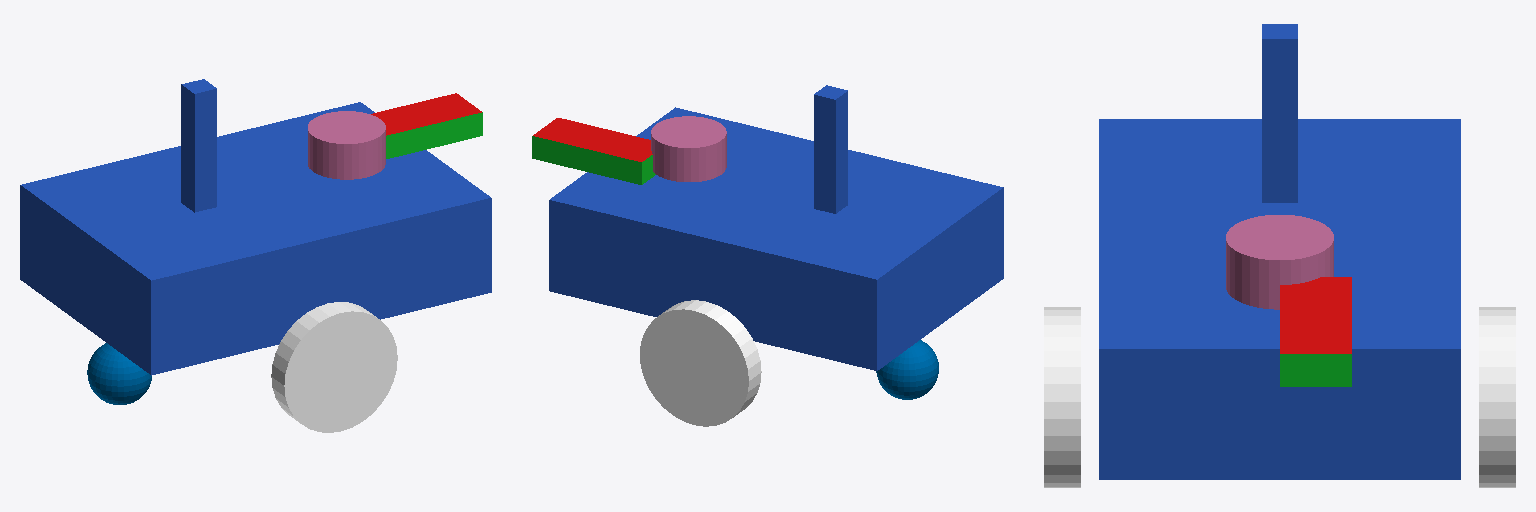
robot.urdf — demo_robot:
<?xml version="1.0"?>
<!--
  Terra M4-08a 测试夹具（由 Terra 编写）：差速小车。覆盖：package:// 路径、STL 网格、Collada 网格（marker.dae，需要 assimp）、
  带贴图的材质、两个 continuous 轮子、一个 revolute 关节、没有惯量的固定连杆（激光雷达、相机、IMU）、相机的光学坐标系。
  base_footprint（地面）→ base_link（轮轴高度 0.05 m）。
-->
<robot name="demo_robot">
  <material name="blue"><color rgba="0.2 0.4 0.8 1"/></material>
  <material name="checker"><color rgba="1 1 1 1"/><texture filename="package://demo_robot/textures/checker.png"/></material>

  <link name="base_footprint"/>
  <joint name="base_joint" type="fixed">
    <parent link="base_footprint"/>
    <child link="base_link"/>
    <origin xyz="0 0 0.05" rpy="0 0 0"/>
  </joint>

  <link name="base_link">
    <inertial>
      <origin xyz="0 0 0.06"/>
      <mass value="2.0"/>
      <inertia ixx="0.0077" ixy="0" ixz="0" iyy="0.016" iyz="0" izz="0.0217"/>
    </inertial>
    <visual>
      <geometry><mesh filename="package://demo_robot/meshes/body.stl"/></geometry>
      <material name="blue"/>
    </visual>
    <visual>
      <origin xyz="0.1 0 0.1" rpy="0 0 0"/>
      <geometry><mesh filename="package://demo_robot/meshes/marker.dae"/></geometry>
    </visual>
    <collision>
      <geometry><mesh filename="package://demo_robot/meshes/body.stl"/></geometry>
    </collision>
  </link>

  <link name="left_wheel">
    <inertial><mass value="0.2"/><inertia ixx="0.00013" ixy="0" ixz="0" iyy="0.00025" iyz="0" izz="0.00013"/></inertial>
    <visual><origin rpy="1.5707963 0 0"/><geometry><cylinder radius="0.05" length="0.02"/></geometry><material name="checker"/></visual>
    <collision><origin rpy="1.5707963 0 0"/><geometry><cylinder radius="0.05" length="0.02"/></geometry></collision>
  </link>
  <joint name="left_wheel_joint" type="continuous">
    <parent link="base_link"/>
    <child link="left_wheel"/>
    <origin xyz="0 0.12 0"/>
    <axis xyz="0 1 0"/>
    <limit effort="5" velocity="20"/>
  </joint>

  <link name="right_wheel">
    <inertial><mass value="0.2"/><inertia ixx="0.00013" ixy="0" ixz="0" iyy="0.00025" iyz="0" izz="0.00013"/></inertial>
    <visual><origin rpy="1.5707963 0 0"/><geometry><cylinder radius="0.05" length="0.02"/></geometry><material name="checker"/></visual>
    <collision><origin rpy="1.5707963 0 0"/><geometry><cylinder radius="0.05" length="0.02"/></geometry></collision>
  </link>
  <joint name="right_wheel_joint" type="continuous">
    <parent link="base_link"/>
    <child link="right_wheel"/>
    <origin xyz="0 -0.12 0"/>
    <axis xyz="0 1 0"/>
    <limit effort="5" velocity="20"/>
  </joint>

  <link name="caster_link">
    <collision><geometry><sphere radius="0.025"/></geometry></collision>
    <visual><geometry><sphere radius="0.025"/></geometry></visual>
  </link>
  <joint name="caster_joint" type="fixed">
    <parent link="base_link"/>
    <child link="caster_link"/>
    <origin xyz="-0.12 0 -0.025"/>
  </joint>

  <link name="arm_link">
    <inertial><origin xyz="0 0 0.05"/><mass value="0.1"/><inertia ixx="0.0001" ixy="0" ixz="0" iyy="0.0001" iyz="0" izz="0.00002"/></inertial>
    <visual><origin xyz="0 0 0.05"/><geometry><box size="0.02 0.02 0.1"/></geometry><material name="blue"/></visual>
    <collision><origin xyz="0 0 0.05"/><geometry><box size="0.02 0.02 0.1"/></geometry></collision>
  </link>
  <joint name="arm_joint" type="revolute">
    <parent link="base_link"/>
    <child link="arm_link"/>
    <origin xyz="-0.05 0 0.1"/>
    <axis xyz="0 0 1"/>
    <limit lower="-1.57" upper="1.57" effort="5" velocity="2"/>
  </joint>

  <link name="laser_link">
    <visual><geometry><cylinder radius="0.03" length="0.03"/></geometry></visual>
  </link>
  <joint name="laser_joint" type="fixed">
    <parent link="base_link"/>
    <child link="laser_link"/>
    <origin xyz="0.08 0 0.12"/>
  </joint>

  <link name="camera_link"/>
  <joint name="camera_joint" type="fixed">
    <parent link="base_link"/>
    <child link="camera_link"/>
    <origin xyz="0.15 0 0.08"/>
  </joint>
  <link name="camera_optical_frame"/>
  <joint name="camera_optical_joint" type="fixed">
    <parent link="camera_link"/>
    <child link="camera_optical_frame"/>
    <origin rpy="-1.5707963 0 -1.5707963"/>
  </joint>

  <link name="imu_link"/>
  <joint name="imu_joint" type="fixed">
    <parent link="base_link"/>
    <child link="imu_link"/>
    <origin xyz="0 0 0.03"/>
  </joint>
</robot>

--- Render facts (derived) ---
Views: 3 orthographic renders of the robot side by side, from view 1: azimuth 30°, elevation 25°; view 2: azimuth 150°, elevation 25°; view 3: azimuth 270°, elevation 25°.
Robot: demo_robot — 10 links, 9 joints (1 revolute, 2 continuous, 6 fixed); root link base_footprint; default pose: every joint at zero.
Links seen in each view (by area): view 1: base_link, right_wheel, laser_link, arm_link, caster_link; view 2: base_link, left_wheel, laser_link, arm_link, caster_link; view 3: base_link, laser_link, left_wheel, right_wheel, arm_link.
Boxes of the visible links, x1,y1,x2,y2 form: base_link: (20,93,491,375); right_wheel: (271,302,397,432); laser_link: (308,111,385,179); arm_link: (181,79,216,212); caster_link: (87,343,151,404); base_link: (532,107,1003,370); left_wheel: (640,300,761,426); laser_link: (651,116,726,181); arm_link: (814,85,847,213); caster_link: (876,340,938,399); base_link: (1099,119,1460,479); laser_link: (1226,215,1333,309); left_wheel: (1479,307,1515,487); right_wheel: (1044,307,1080,487); arm_link: (1262,24,1297,202).
Bounding box of the posed robot: 0.35 × 0.26 × 0.25 m (x, y, z).
Meshes: 2 distinct files referenced, 2 mesh visuals loaded (1 binary STL, 1 Collada DAE).
